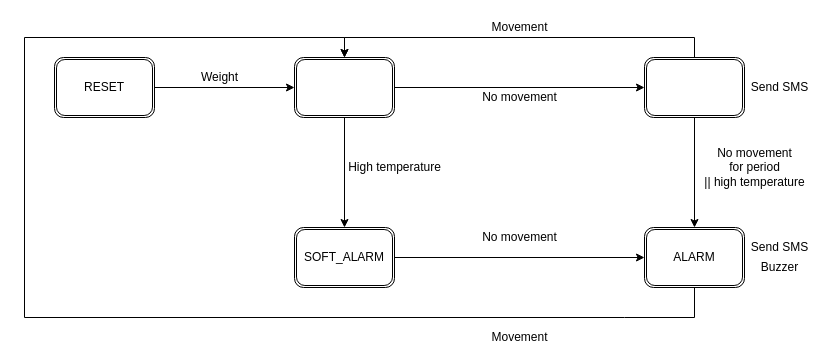
Image size: 832x364. Some labels were removed from this diagram. Each missing label, with the centre of its shape:
"ENGINE_IDLE" goes at point 694,87.
"START" goes at point 344,87.
